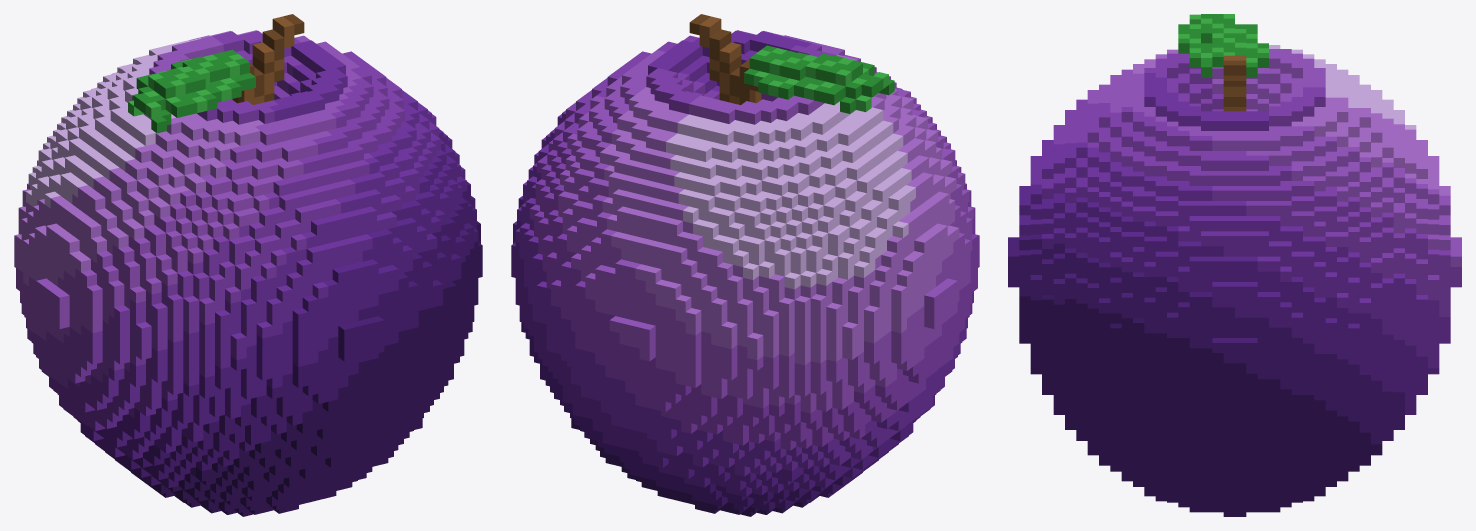
File: apple.obj
3 renders of one model, left to right at view 1: azimuth 30°, elevation 25°; view 2: azimuth 150°, elevation 25°; view 3: azimuth 270°, elevation 25°, orthographic. The views are drawn at different scales.
Size of the model in its own units: 4 by 4.3 by 4.
